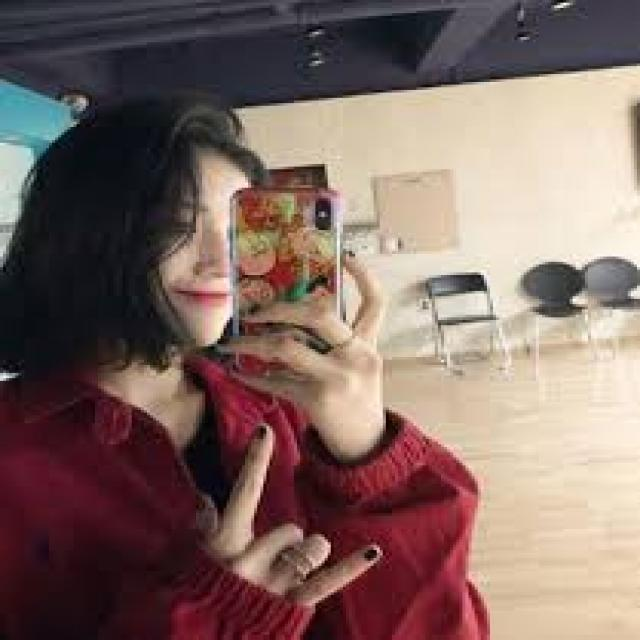Phone: (228, 186, 346, 370)
